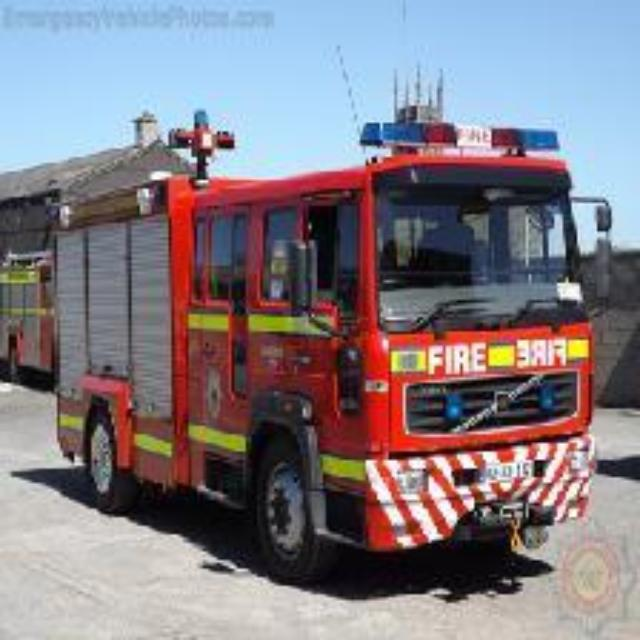emergency: (28, 116, 598, 556)
